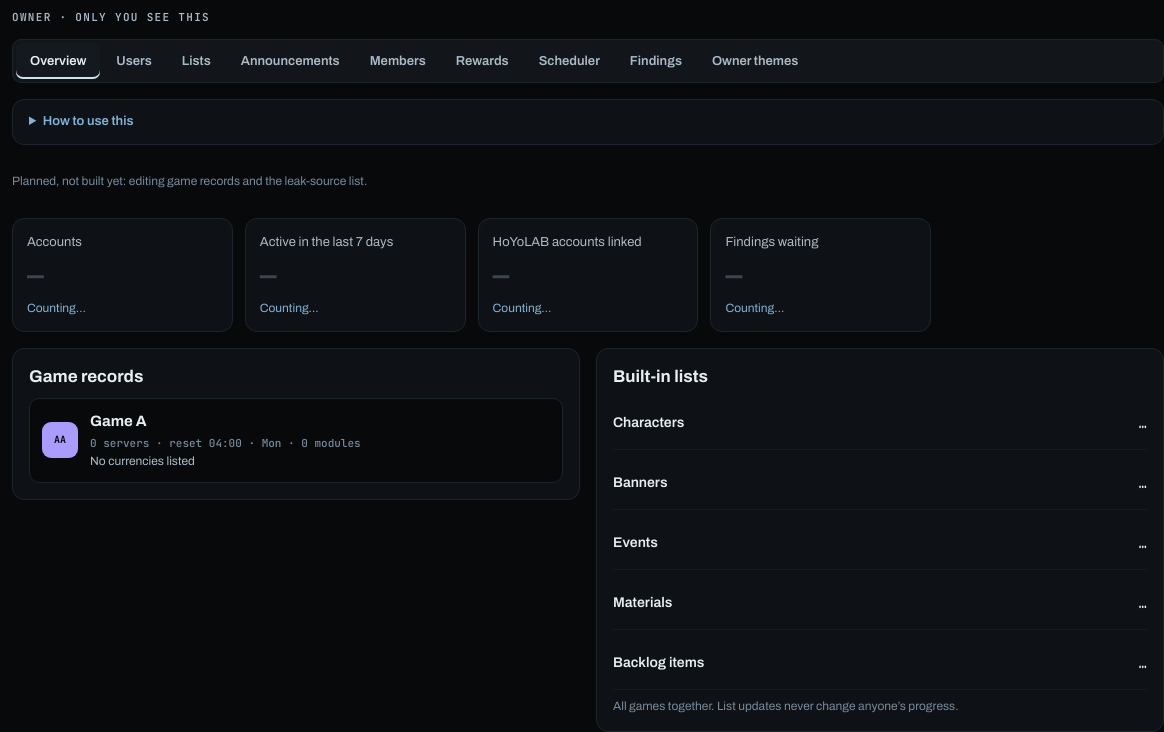
Scenario: Owner console · Scheduler with the server › Findings is a read-only log: auto-approved findings show their source, no action buttons
The tab says just "Findings" (no count) because nothing is new — everything is auto-approved.
Click the tab "Findings": coordinates (656, 61) [616, 43, 696, 79]
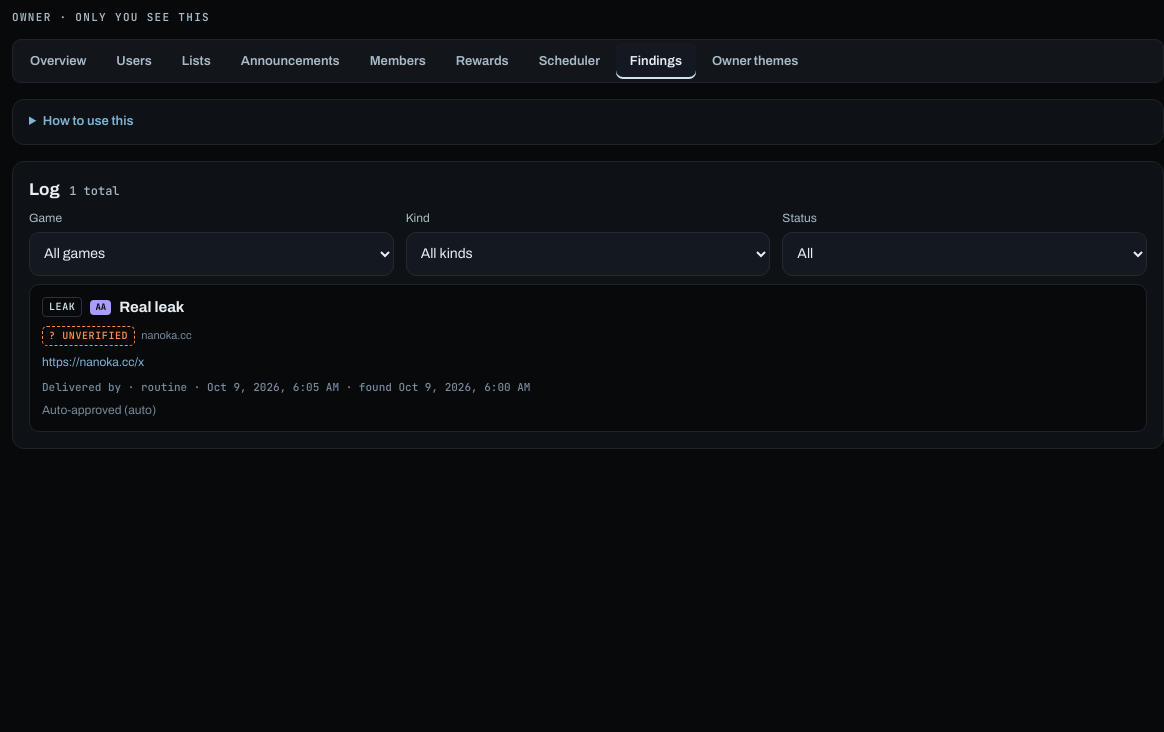
Result: the text "Real leak" is shown at [119, 296, 184, 318]
Result: the text "Auto-approved (auto)" is shown at [42, 403, 156, 417]
Filters still work on the read-only log.
Select "event" in the dropdown labelled "Kind": coordinates (588, 254) [406, 232, 770, 276]
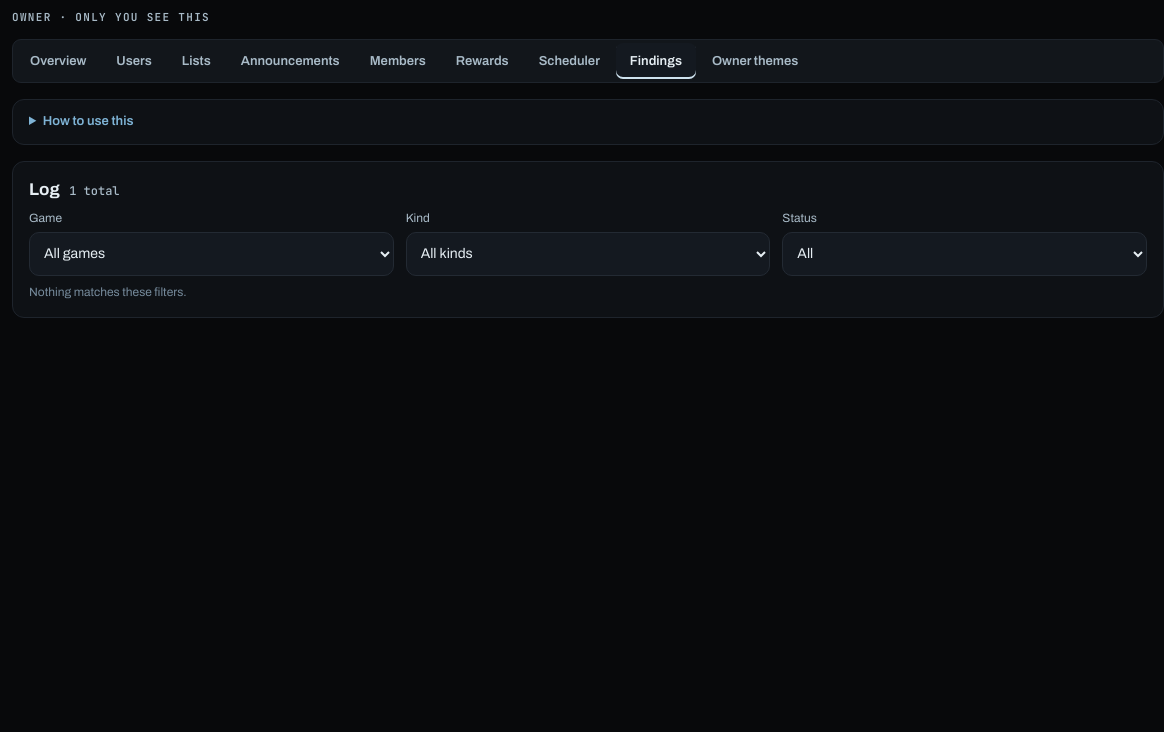
Result: the text "Nothing matches these filters." is shown at [29, 284, 187, 298]
Select "All kinds" in the dropdown labelled "Kind": coordinates (588, 254) [406, 232, 770, 276]
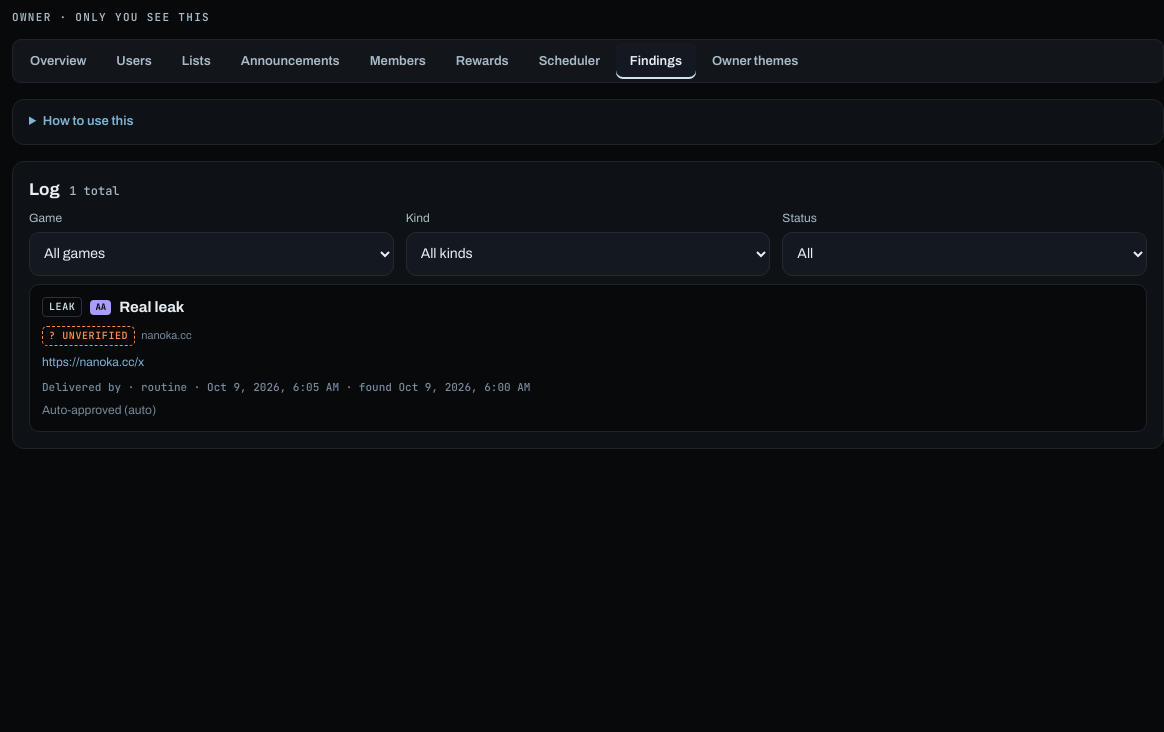
Result: the text "Real leak" is shown at [119, 296, 184, 318]
